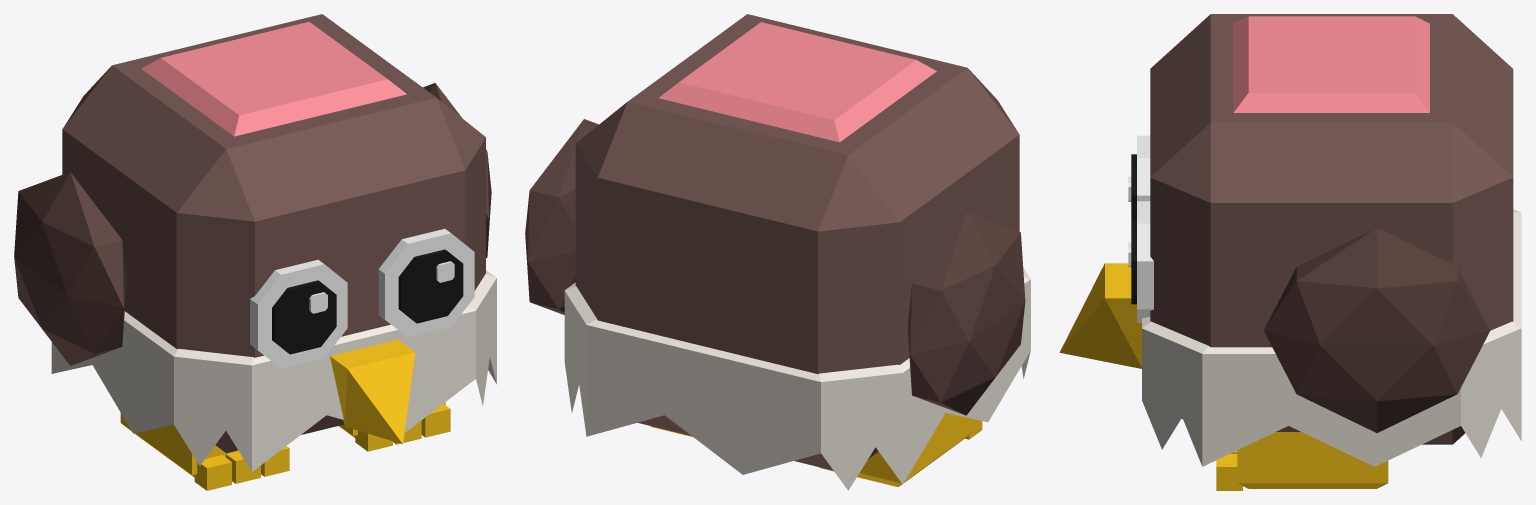
The model's file is Vulture.fbx.
3 views of the same model, side by side, from view 1: azimuth 30°, elevation 25°; view 2: azimuth 150°, elevation 25°; view 3: azimuth 270°, elevation 25° (orthographic). The views are drawn at different scales.
Visible parts, largest first — view 1: Vulture, Vulture_Collar, Vulture_Wings, Vulture_Cap, Vulture_Yellow, Vulture_Eyes, Vulture_Pupils; view 2: Vulture, Vulture_Collar, Vulture_Wings, Vulture_Cap, Vulture_Yellow; view 3: Vulture, Vulture_Wings, Vulture_Collar, Vulture_Cap, Vulture_Yellow, Vulture_Eyes, Vulture_Pupils.
Boxes of the visible parts, x1,y1,x2,y2 form: Vulture: (62, 14, 485, 453); Vulture_Collar: (51, 270, 496, 471); Vulture_Wings: (14, 83, 491, 365); Vulture_Cap: (141, 22, 406, 136); Vulture_Yellow: (120, 339, 450, 490); Vulture_Eyes: (250, 229, 474, 368); Vulture_Pupils: (272, 249, 463, 354); Vulture: (575, 14, 1019, 470); Vulture_Collar: (564, 268, 1030, 490); Vulture_Wings: (525, 119, 1025, 415); Vulture_Cap: (658, 22, 936, 142); Vulture_Yellow: (650, 413, 982, 487); Vulture: (1150, 14, 1513, 444); Vulture_Wings: (1263, 228, 1490, 432); Vulture_Collar: (1142, 209, 1521, 466); Vulture_Cap: (1233, 16, 1429, 112); Vulture_Yellow: (1059, 263, 1388, 490); Vulture_Eyes: (1128, 135, 1153, 322); Vulture_Pupils: (1131, 154, 1136, 304).
Size of the model in its own units: 2.74 by 2.18 by 2.44.
